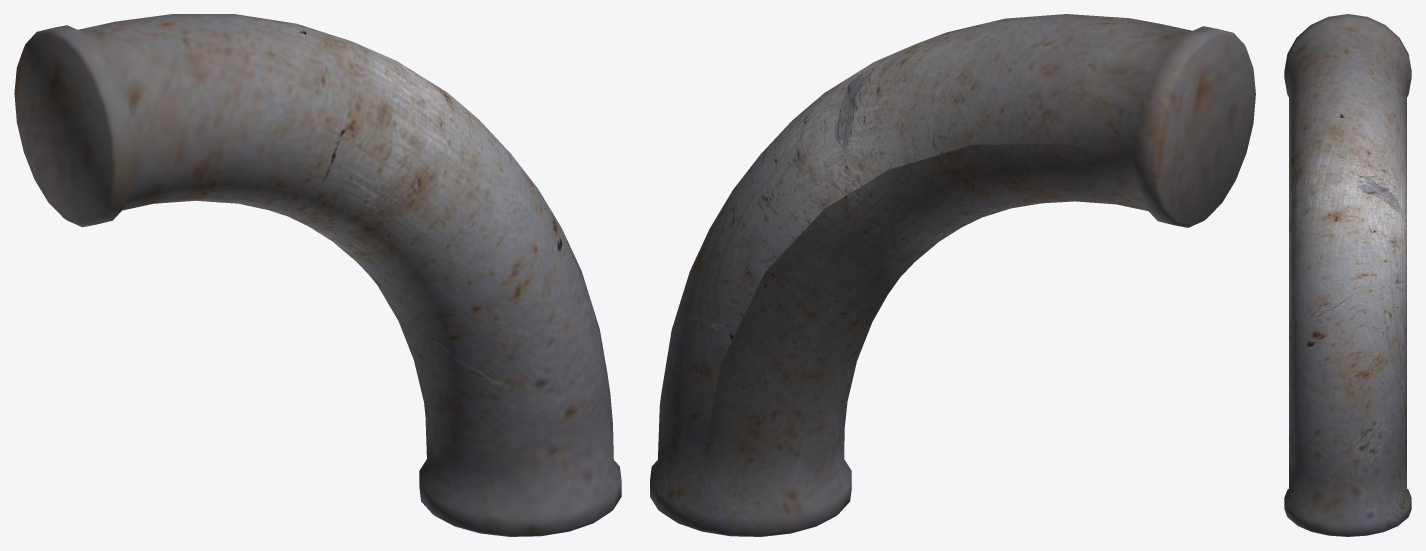
File: Pipe3-model.fbx
The picture shows the model from 3 angles, left to right: view 1: azimuth 30°, elevation 25°; view 2: azimuth 150°, elevation 25°; view 3: azimuth 270°, elevation 25°; orthographic projection. The views are drawn at different scales.
Parts seen in each view (by area): view 1: Cylinder03_001; view 2: Cylinder03_001; view 3: Cylinder03_001.
Part boxes in pixels (x1,y1,x2,y2): Cylinder03_001: (14, 14, 621, 536); Cylinder03_001: (650, 14, 1255, 536); Cylinder03_001: (1284, 14, 1411, 536).
Size of the model in its own units: 10 by 10 by 3.23.
